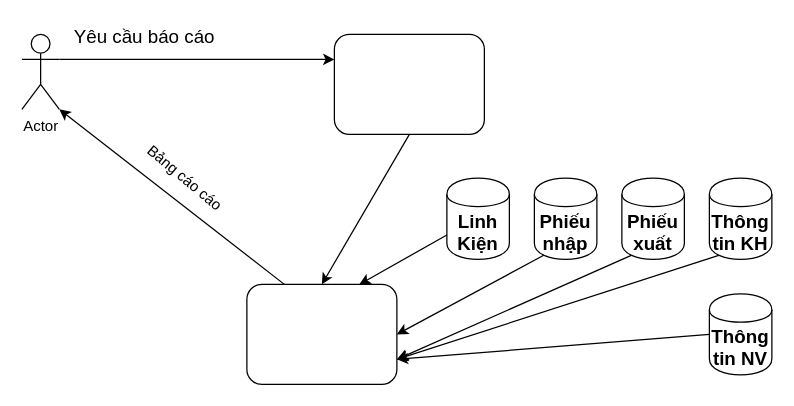
Some shapes in this 794 by 406 pixel diagram are drawn without their labels. Each missing label, with the box of its shape:
Báo Cáo: (333, 33, 484, 134)
Xác định loại báo cáo: (246, 283, 397, 384)
